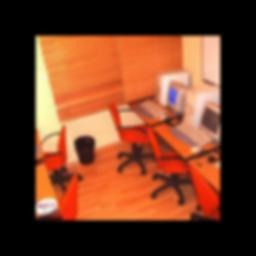Bote de Basura: (76, 134, 97, 166)
